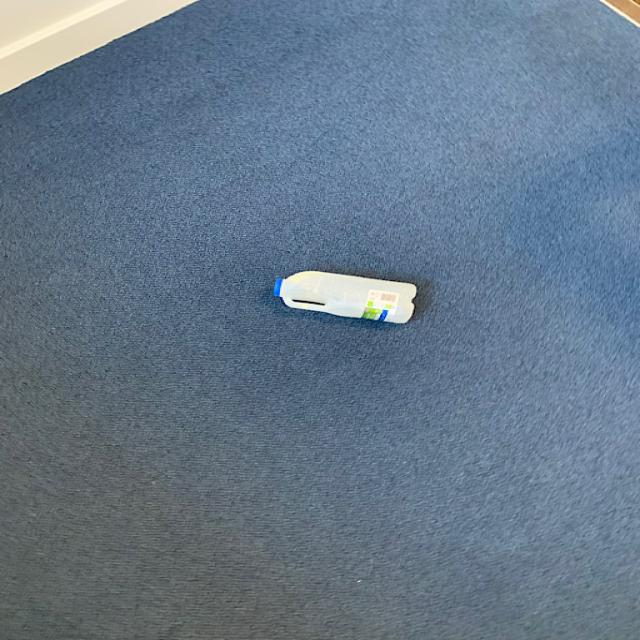litter: (266, 267, 432, 331)
